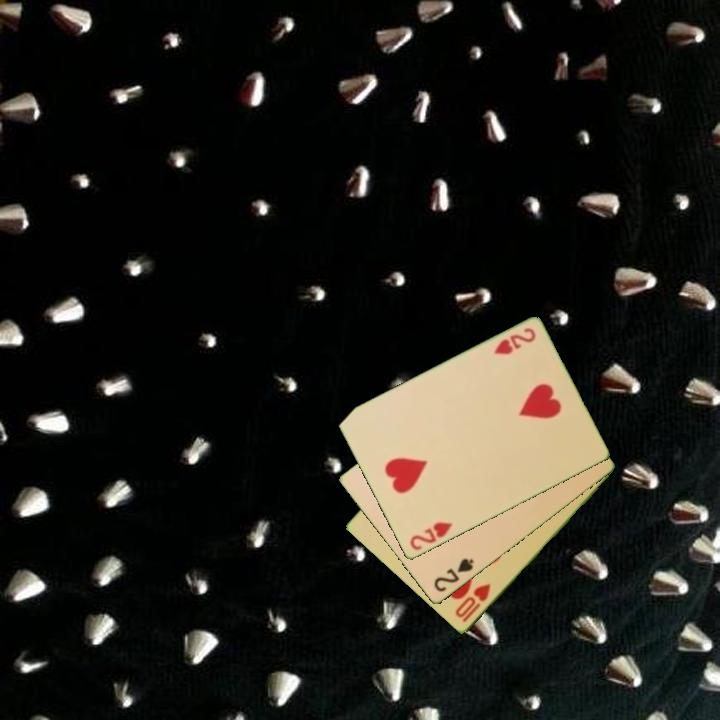10h: (452, 580, 494, 626)
2h: (406, 519, 455, 554), (490, 324, 539, 358)
2s: (430, 555, 476, 595)
